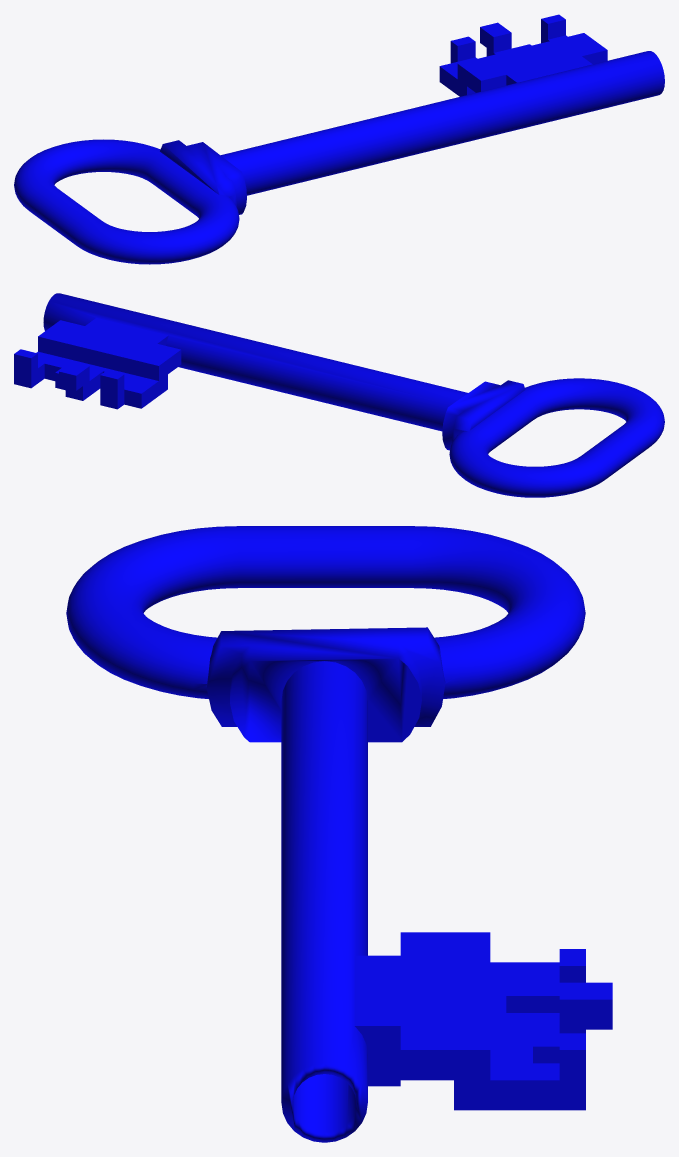
File: blue key.fbx
The picture shows the model from 3 angles, top to bottom: view 1: azimuth 30°, elevation 25°; view 2: azimuth 150°, elevation 25°; view 3: azimuth 270°, elevation 25°; orthographic projection. The views are drawn at different scales.
Visible parts, largest first — view 1: Group1; view 2: Group1; view 3: Group1.
Boxes of the visible parts, x1,y1,x2,y2 form: Group1: (14, 14, 664, 264); Group1: (14, 293, 664, 497); Group1: (66, 526, 612, 1142).
Bounding box in the file's own units: 7.39 × 0.516 × 3.03.
